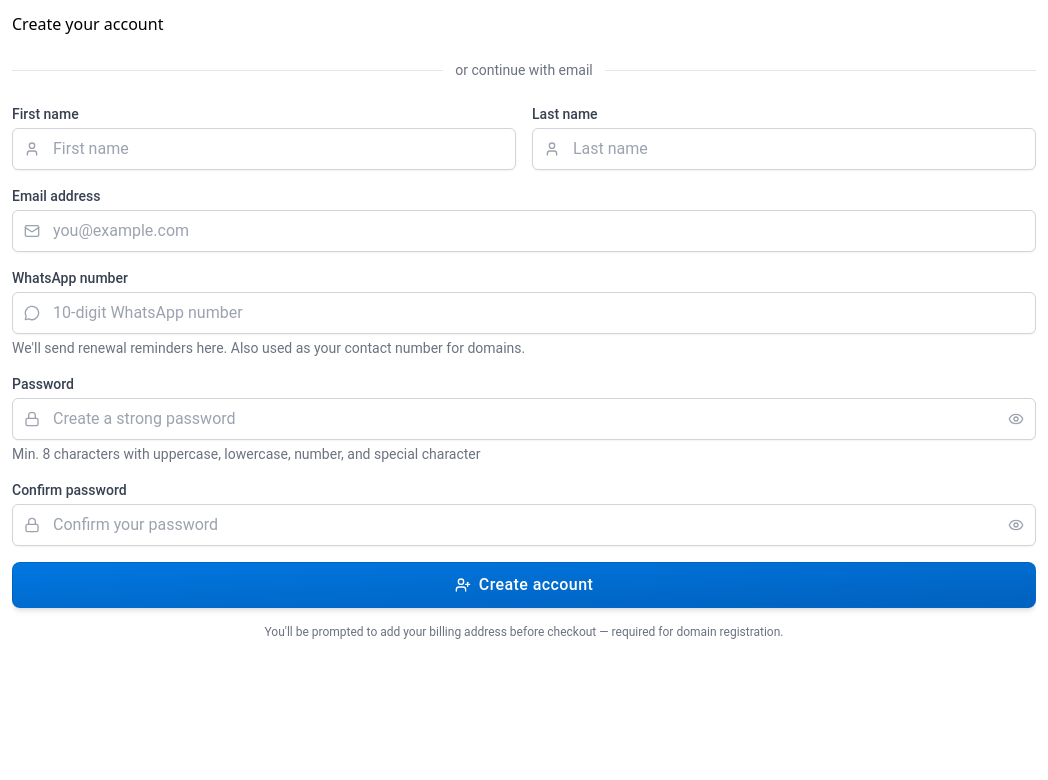
Test: <MultiStageRegisterForm> › maps the Zod field-error tree from result.error.body.details back onto per-field inline errors
The image size is (1048, 780).
In the field with placeholder "First name": (264, 149) [12,128,516,170], type "Alice"
In the field with placeholder "Last name": (784, 149) [532,128,1036,170], type "Smith"
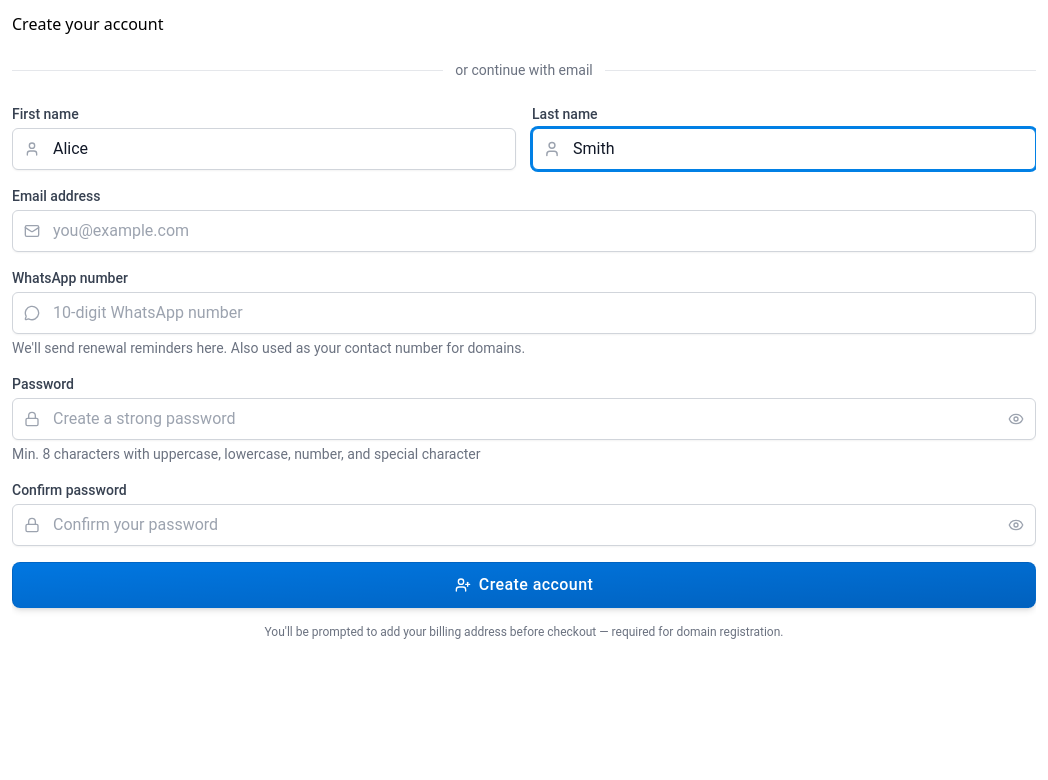
In the field with placeholder "you@example.com": (524, 231) [12,210,1036,252], type "alice@example.com"
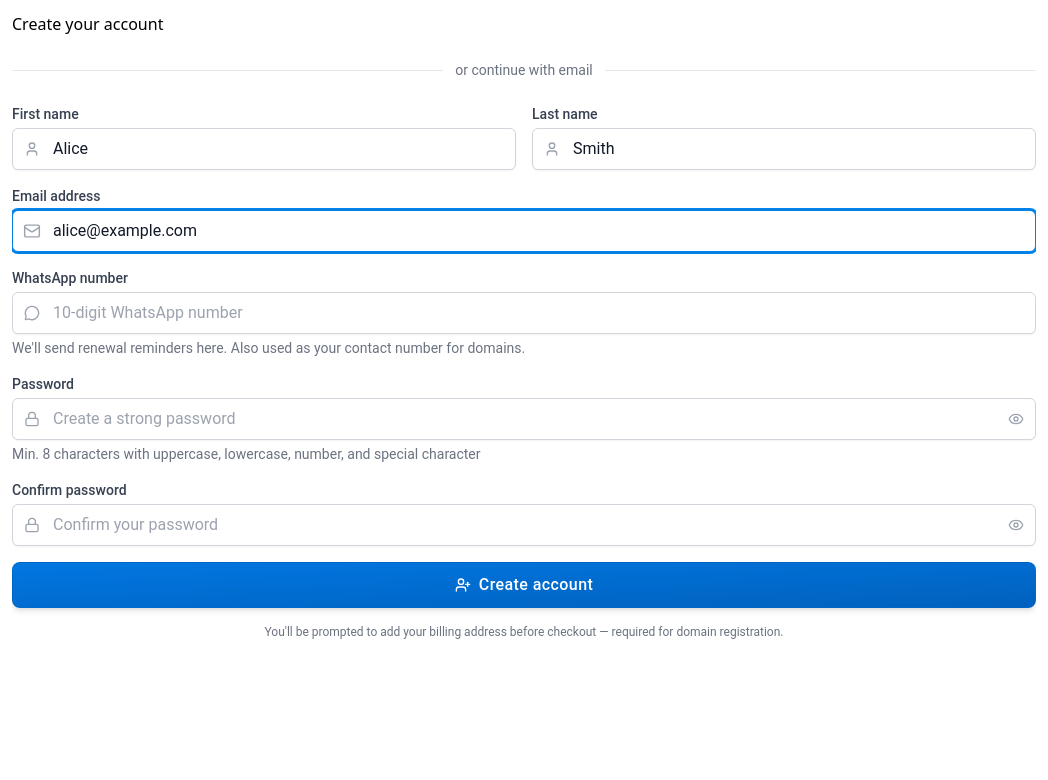
In the field with placeholder "10-digit WhatsApp number": (524, 313) [12,292,1036,334], type "9998887776"
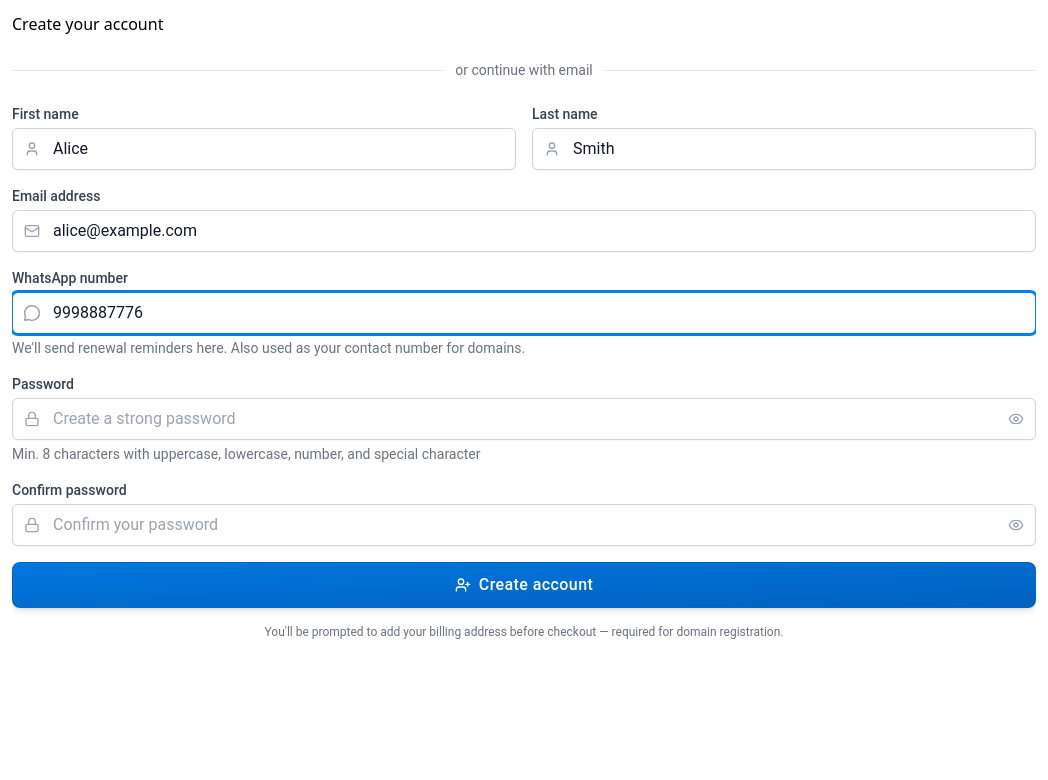
In the password field with placeholder "Create a strong password": (524, 419) [12,398,1036,440], type "ValidPass1!"
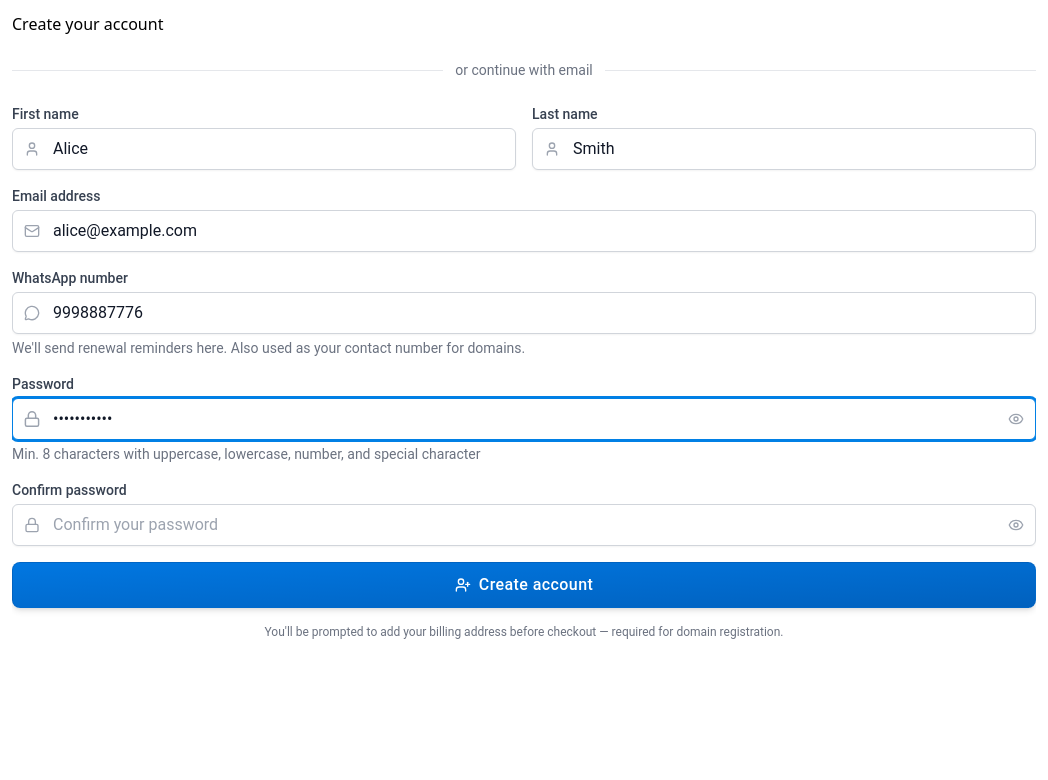
In the password field with placeholder "Confirm your password": (524, 525) [12,504,1036,546], type "ValidPass1!"
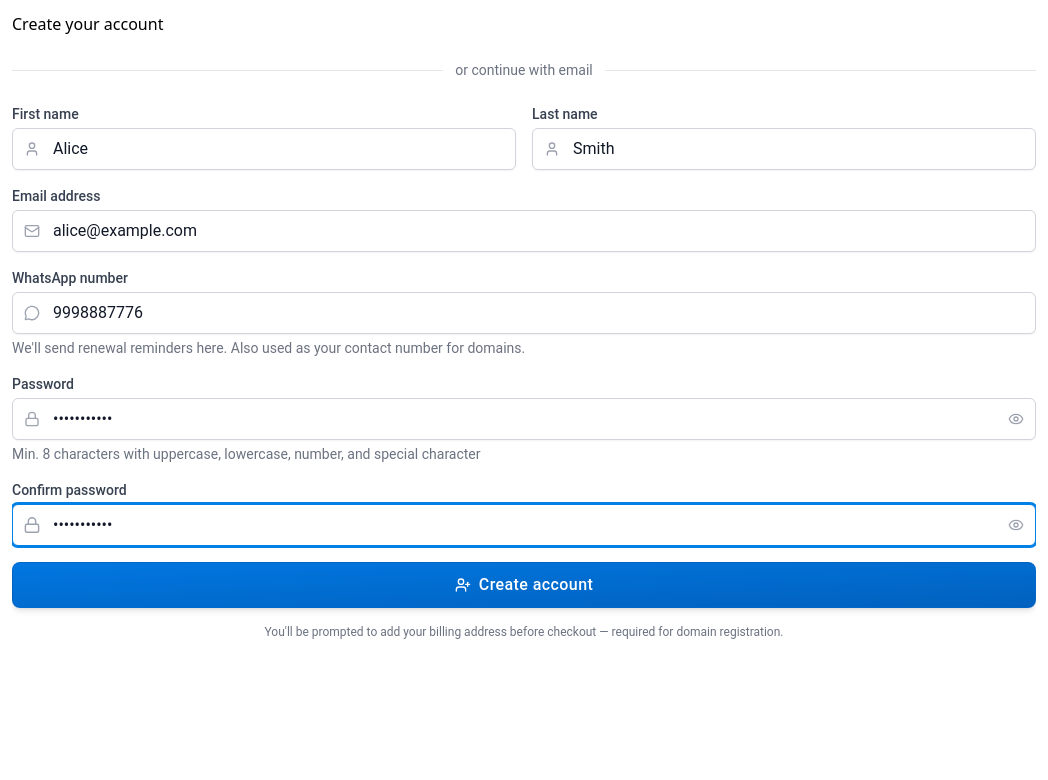
Click the button "Create account": (524, 585) [12,562,1036,608]
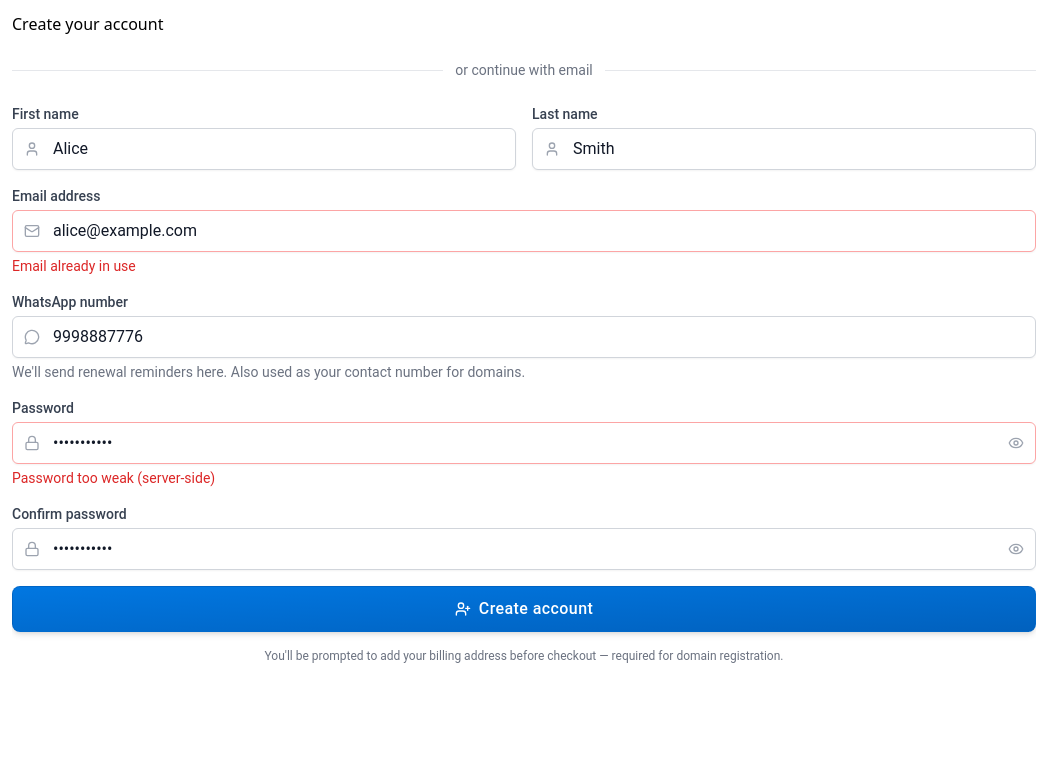
Check: the text "Email already in use" is shown, box [12,258,136,274]
Check: the text "Password too weak (server-side)" is shown, box [12,470,215,486]
